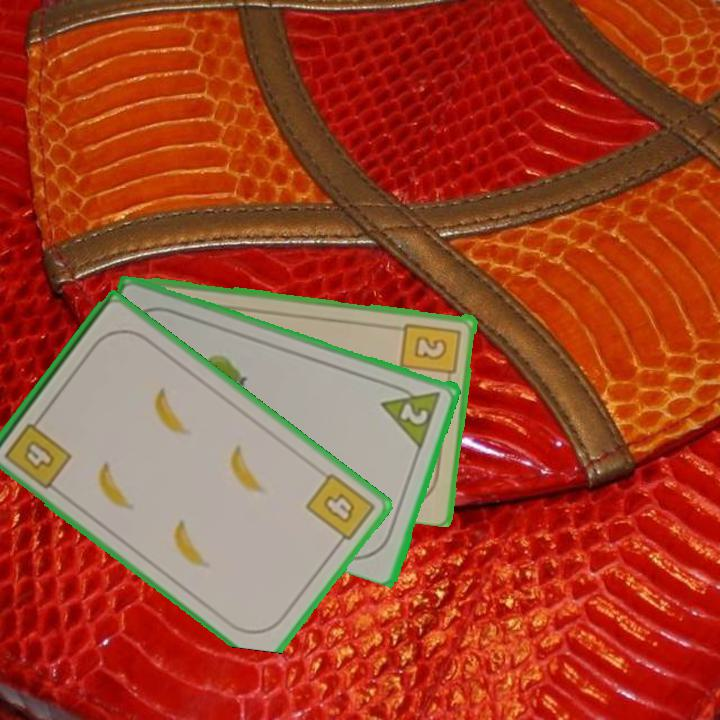2b: (398, 319, 464, 386)
2p: (378, 378, 444, 449)
4b: (302, 469, 378, 551), (1, 411, 75, 492)
